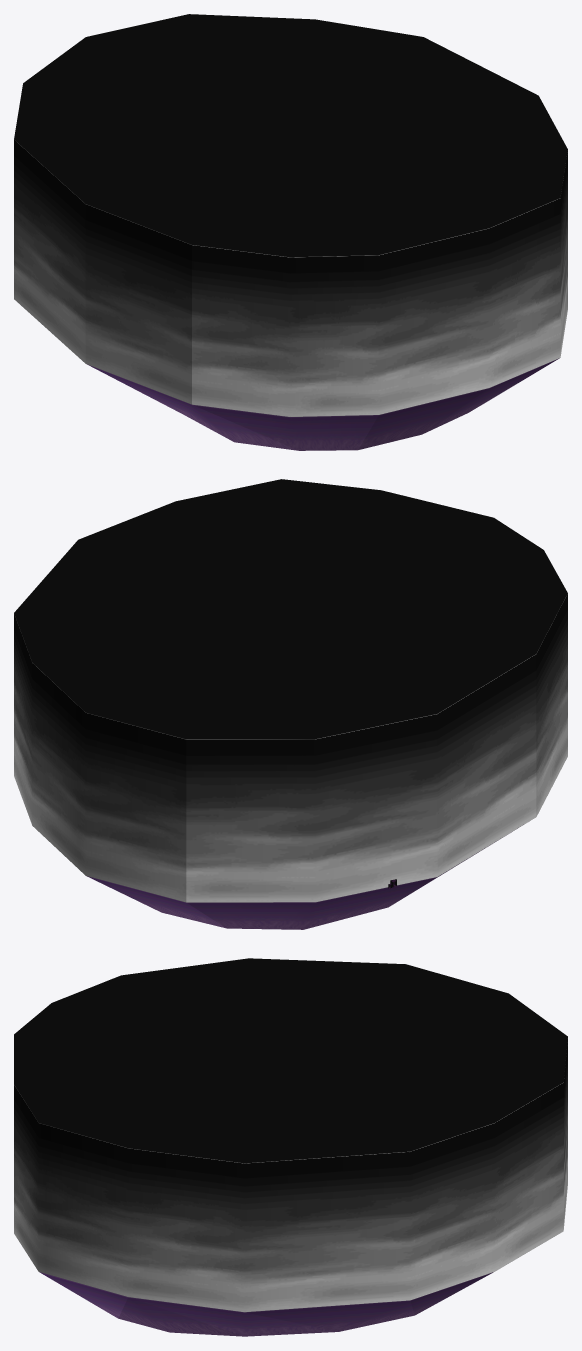
3 renders of one model, top to bottom at view 1: azimuth 30°, elevation 25°; view 2: azimuth 150°, elevation 25°; view 3: azimuth 270°, elevation 25°, orthographic. The views are drawn at different scales.
Parts seen in each view (by area): view 1: sky, sky.003; view 2: sky, sky.003; view 3: sky, sky.003.
Part boxes in pixels (x1,y1,x2,y2): sky: (14, 14, 567, 416); sky.003: (87, 358, 559, 450); sky: (14, 479, 567, 902); sky.003: (86, 828, 517, 929); sky: (14, 958, 567, 1312); sky.003: (39, 1272, 493, 1336).
Size of the model in its own units: 93462 by 46411 by 106729.
63 materials, 63 textured.
